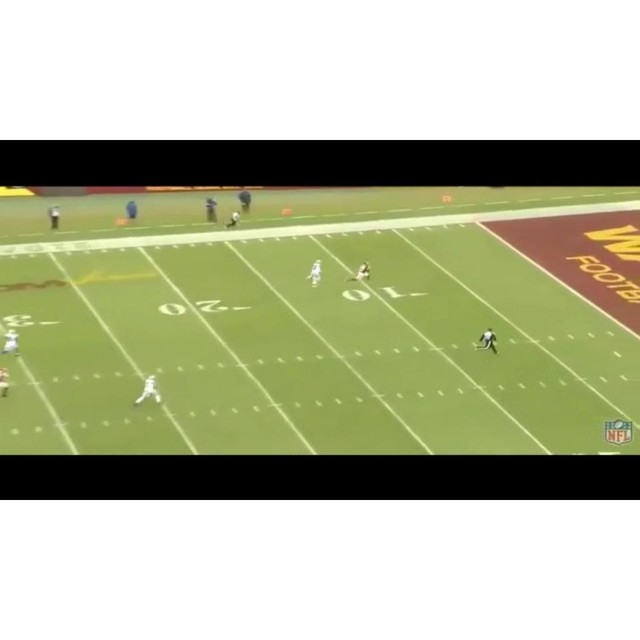american-football-player: (133, 374, 162, 407), (346, 262, 373, 285), (0, 328, 21, 357), (305, 260, 322, 288), (0, 366, 11, 399)
referee: (475, 328, 499, 356)
